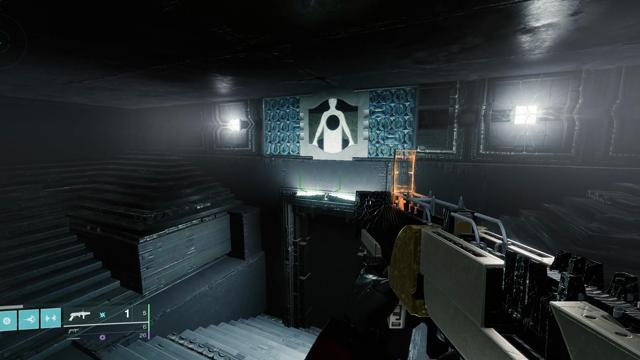grief: (309, 98, 358, 153)
